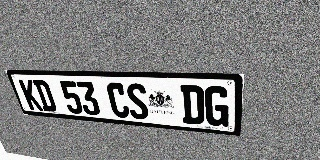3: (76, 81, 101, 116)
5: (59, 81, 84, 114)
C: (105, 82, 131, 118)
D: (180, 85, 204, 125), (32, 80, 58, 112)
G: (205, 86, 230, 127)
K: (18, 79, 43, 111)
S: (125, 83, 150, 120)
